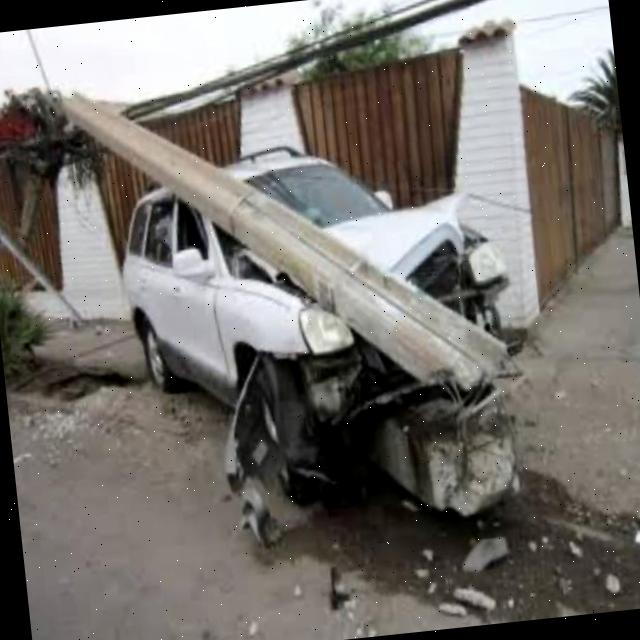Broken Pole: (63, 87, 513, 517)
